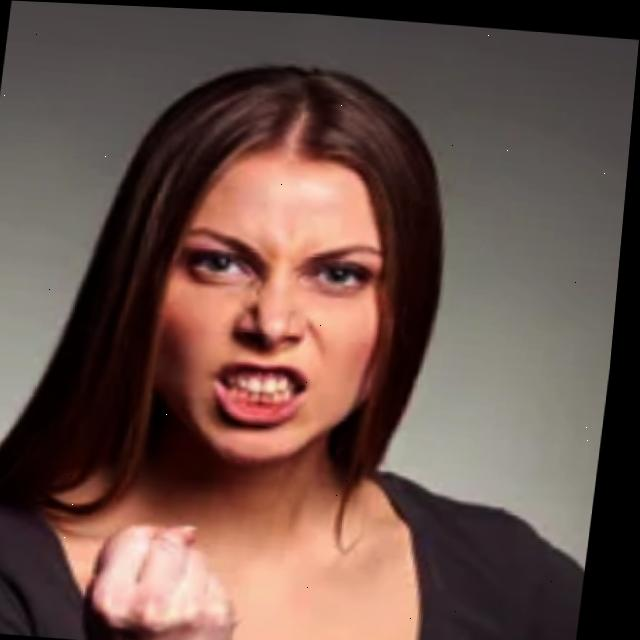Angry: (87, 62, 454, 495)
